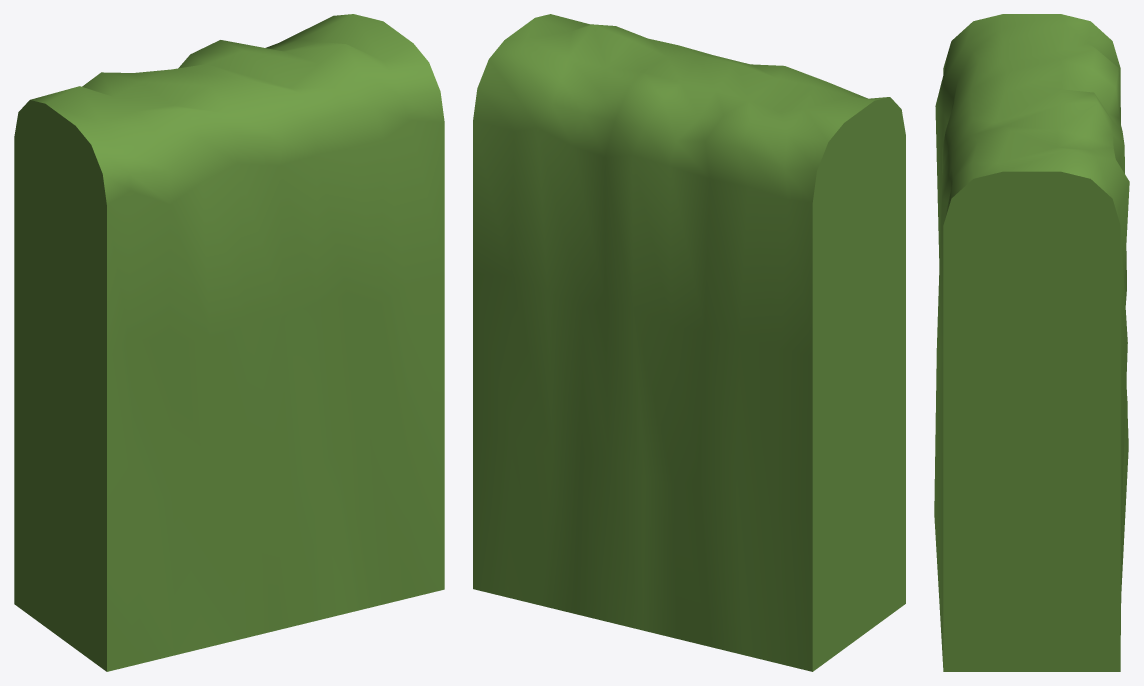
File: hedge.glb
3 renders of one model, left to right at view 1: azimuth 30°, elevation 25°; view 2: azimuth 150°, elevation 25°; view 3: azimuth 270°, elevation 25°, orthographic. The views are drawn at different scales.
Parts seen in each view (by area): view 1: hedge; view 2: hedge; view 3: hedge.
Boxes of the visible parts, x1,y1,x2,y2 form: hedge: [14, 14, 444, 671]; hedge: [473, 14, 905, 671]; hedge: [934, 14, 1129, 671].
Bounding box in the file's own units: 2 × 3.02 × 1.05.
Materials: 1 (1 with a texture image).
